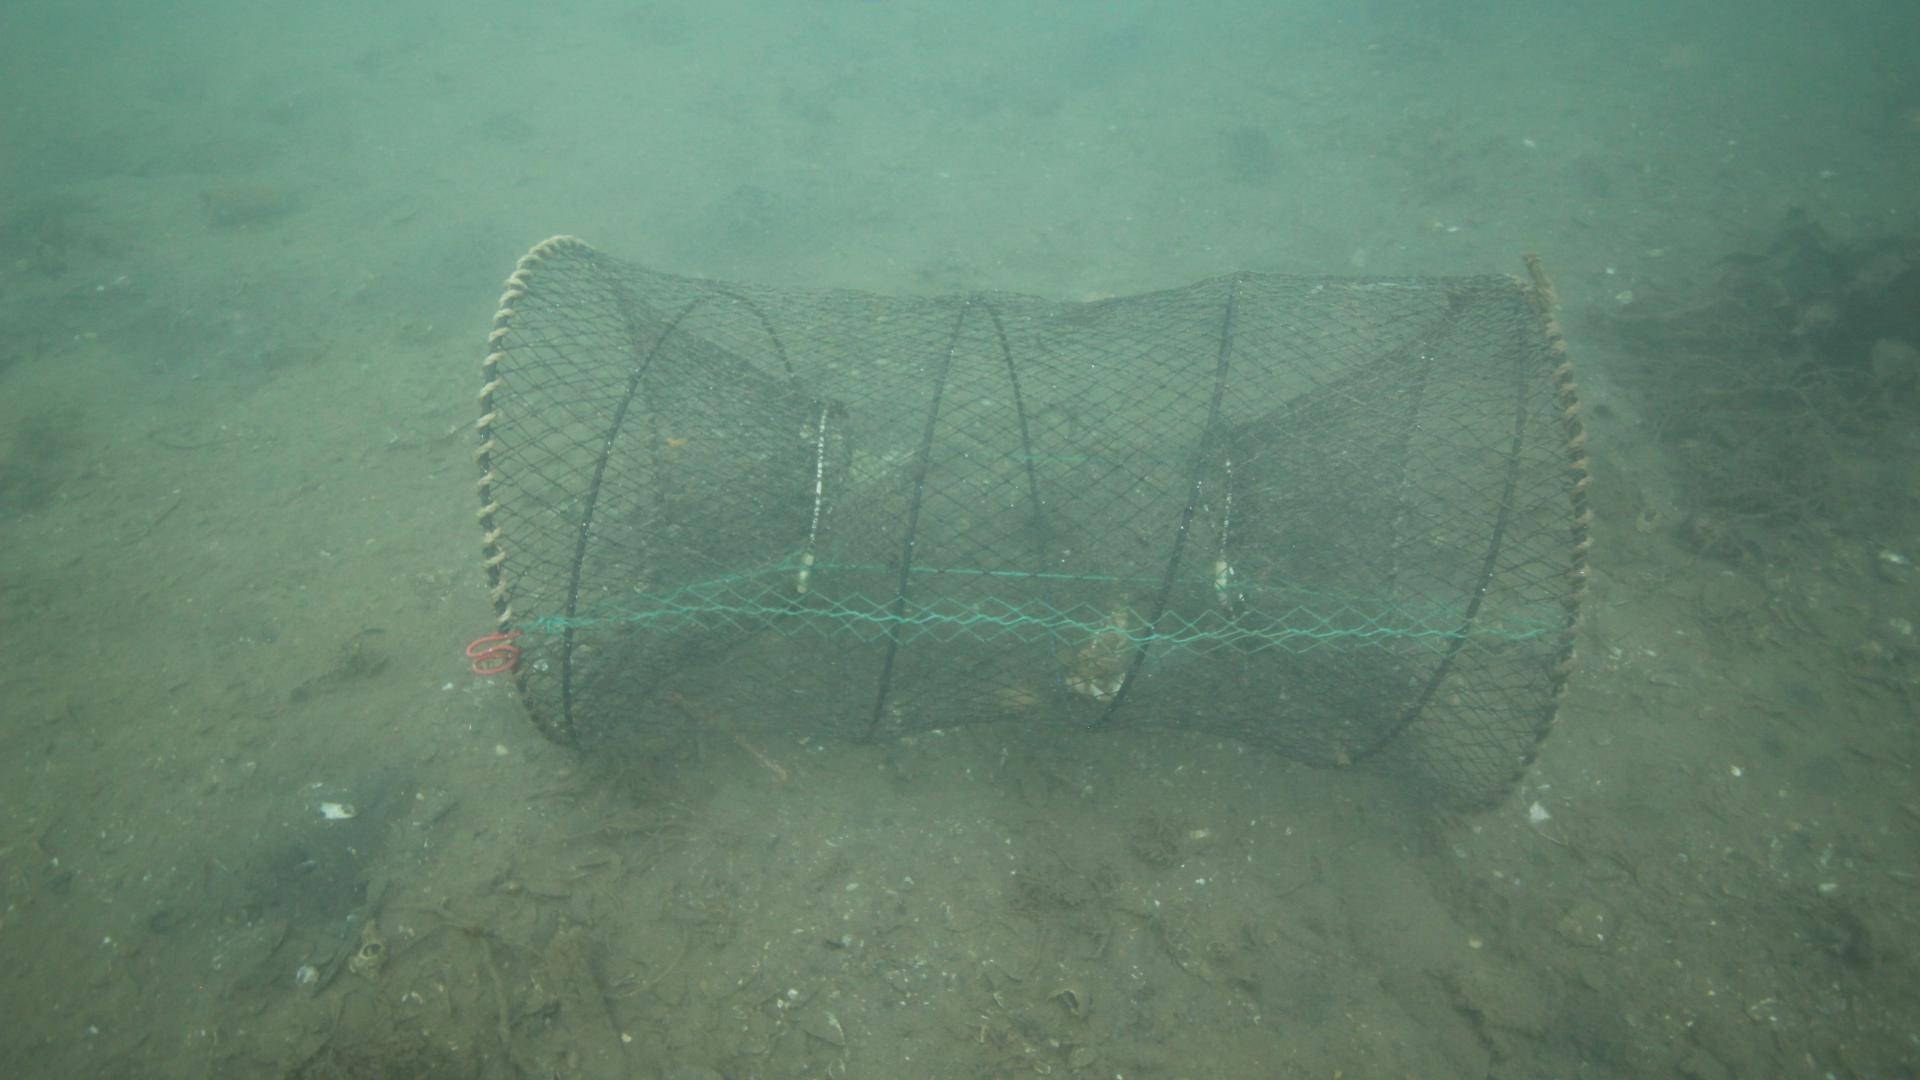spring fish trap: (471, 229, 1594, 820)
